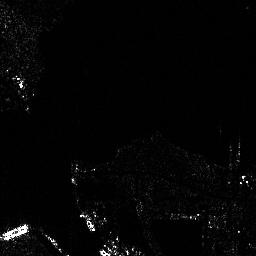ship: (1, 223, 31, 240), (79, 211, 96, 234)
